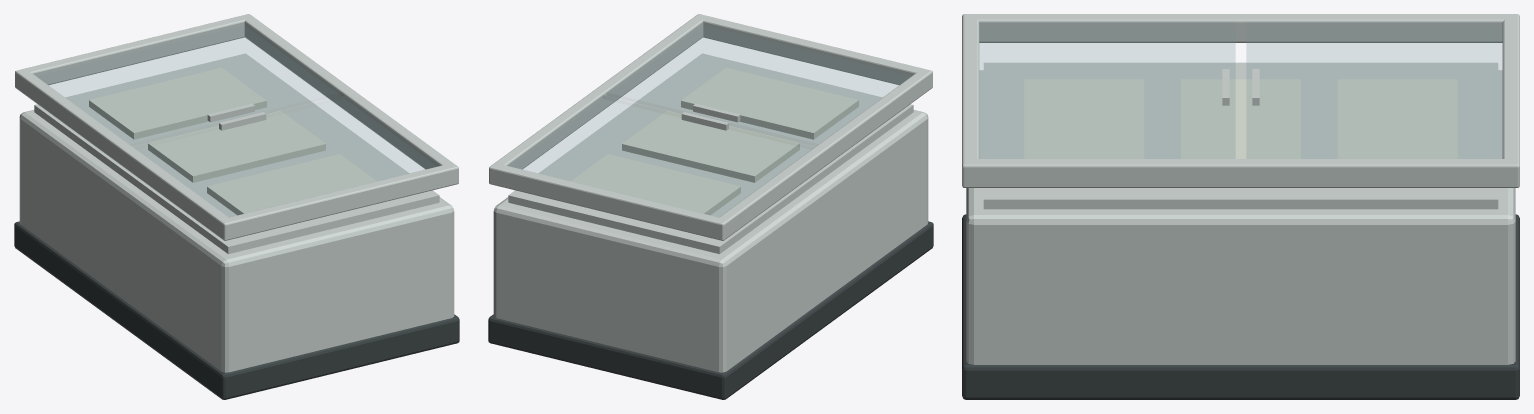
The model's file is freezer-l0.glb.
3 renders of one model, left to right at view 1: azimuth 30°, elevation 25°; view 2: azimuth 150°, elevation 25°; view 3: azimuth 270°, elevation 25°, orthographic. The views are drawn at different scales.
Parts seen in each view (by area): view 1: freezer-l0_fixture_Refrigerator enamel, freezer-l0_fixture_Smoked glass approximation, freezer-l0_fixture_Dairy cartons.001, freezer-l0_fixture_Powder-coated graphite; view 2: freezer-l0_fixture_Refrigerator enamel, freezer-l0_fixture_Smoked glass approximation, freezer-l0_fixture_Dairy cartons.001, freezer-l0_fixture_Powder-coated graphite; view 3: freezer-l0_fixture_Refrigerator enamel, freezer-l0_fixture_Smoked glass approximation, freezer-l0_fixture_Dairy cartons.001, freezer-l0_fixture_Powder-coated graphite.
Boxes of the visible parts, left/top/right/bottom form: freezer-l0_fixture_Refrigerator enamel: left=15, top=14, right=458, bottom=372; freezer-l0_fixture_Smoked glass approximation: left=37, top=25, right=436, bottom=216; freezer-l0_fixture_Dairy cartons.001: left=89, top=67, right=376, bottom=215; freezer-l0_fixture_Powder-coated graphite: left=14, top=221, right=459, bottom=399; freezer-l0_fixture_Refrigerator enamel: left=489, top=14, right=932, bottom=372; freezer-l0_fixture_Smoked glass approximation: left=511, top=25, right=910, bottom=216; freezer-l0_fixture_Dairy cartons.001: left=571, top=67, right=858, bottom=215; freezer-l0_fixture_Powder-coated graphite: left=488, top=221, right=933, bottom=399; freezer-l0_fixture_Refrigerator enamel: left=962, top=14, right=1519, bottom=364; freezer-l0_fixture_Smoked glass approximation: left=979, top=26, right=1502, bottom=158; freezer-l0_fixture_Dairy cartons.001: left=1024, top=79, right=1457, bottom=158; freezer-l0_fixture_Powder-coated graphite: left=962, top=214, right=1519, bottom=399.
Bounding box in the file's own units: 1.7 × 1.24 × 2.6.
